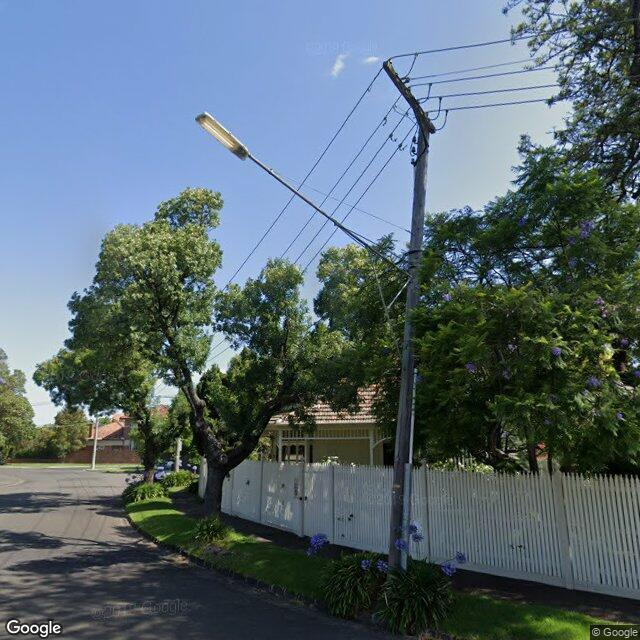crossarm: (382, 61, 436, 134)
streetlight: (195, 112, 411, 278)
timber-pole: (386, 116, 431, 582)
